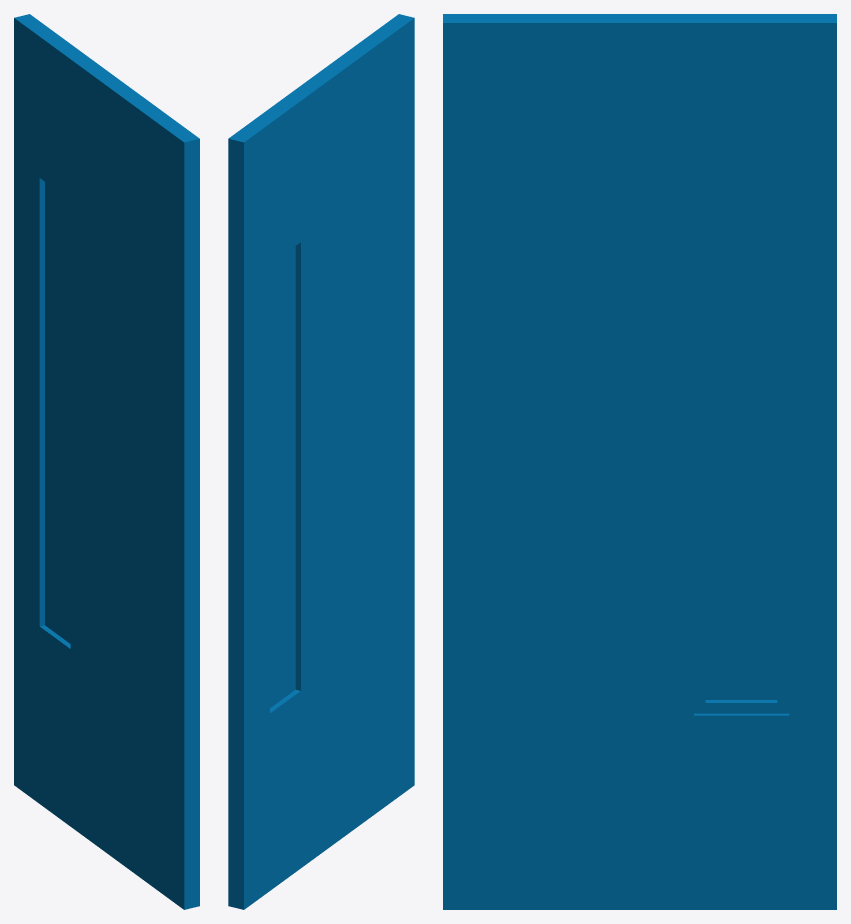
The model's file is MainDoor1Transformed1.fbx.
3 renders of one model, left to right at view 1: azimuth 30°, elevation 25°; view 2: azimuth 150°, elevation 25°; view 3: azimuth 270°, elevation 25°, orthographic. The views are drawn at different scales.
Parts seen in each view (by area): view 1: HB_Door_Concept_Int_Sgl_Solid_VP_- DT-03:910x2110mm RB DT 03; view 2: HB_Door_Concept_Int_Sgl_Solid_VP_- DT-03:910x2110mm RB DT 03; view 3: HB_Door_Concept_Int_Sgl_Solid_VP_- DT-03:910x2110mm RB DT 03.
Boxes of the visible parts, left/top/right/bottom form: HB_Door_Concept_Int_Sgl_Solid_VP_- DT-03:910x2110mm RB DT 03: left=14, top=14, right=199, bottom=909; HB_Door_Concept_Int_Sgl_Solid_VP_- DT-03:910x2110mm RB DT 03: left=228, top=14, right=414, bottom=909; HB_Door_Concept_Int_Sgl_Solid_VP_- DT-03:910x2110mm RB DT 03: left=443, top=14, right=836, bottom=909.
Bounding box in the file's own units: 0.0446 × 2.05 × 0.826.
